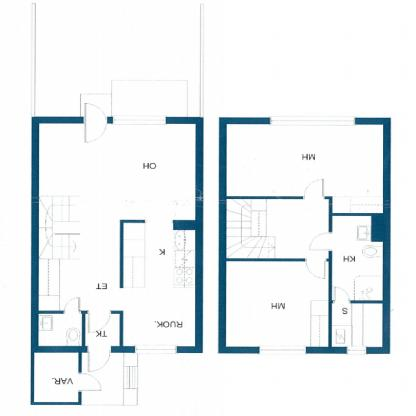door: (82, 103, 110, 145), (85, 310, 114, 335), (86, 347, 113, 373), (78, 374, 105, 397), (308, 231, 332, 252), (306, 259, 326, 283), (65, 292, 83, 315), (304, 178, 326, 196), (333, 288, 351, 302)
window: (271, 115, 353, 124), (109, 117, 165, 124), (257, 346, 305, 353), (137, 346, 179, 351), (346, 348, 368, 356)
zone: (38, 123, 196, 345), (35, 5, 201, 118), (222, 124, 388, 211), (122, 222, 194, 346), (224, 262, 328, 346), (225, 198, 327, 256), (329, 215, 381, 299), (79, 348, 136, 405), (332, 301, 382, 348), (33, 352, 78, 400), (38, 313, 82, 345), (83, 311, 120, 345)
